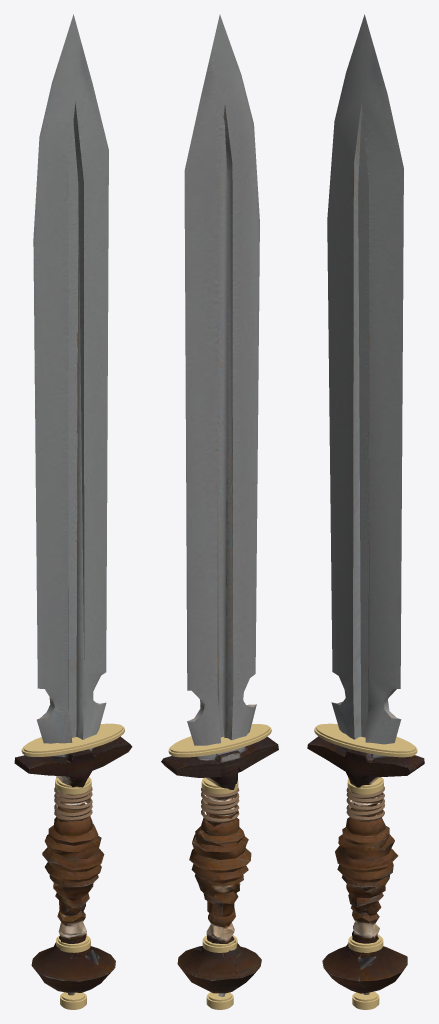
Rendered from weap_roman_gladius_pompeii_1.glb.
The picture shows the model from 3 angles, left to right: view 1: azimuth 30°, elevation 25°; view 2: azimuth 210°, elevation 25°; view 3: azimuth 330°, elevation 25°; orthographic projection.
Visible parts, largest first — view 1: MeshyGear_weap_roman_gladius_pompeii, Q_GE3_GuardPlate, Q_LE0_RepairThong, Q_GE3_PeenBlock, Q_GE4_GripFerruleUpper, Q_GE4_GripFerruleLower; view 2: MeshyGear_weap_roman_gladius_pompeii, Q_GE3_GuardPlate, Q_LE0_RepairThong, Q_GE3_PeenBlock, Q_GE4_GripFerruleLower, Q_GE4_GripFerruleUpper; view 3: MeshyGear_weap_roman_gladius_pompeii, Q_GE3_GuardPlate, Q_LE0_RepairThong, Q_GE3_PeenBlock, Q_GE4_GripFerruleLower, Q_GE4_GripFerruleUpper.
Boxes of the visible parts, x1,y1,x2,y2 form: MeshyGear_weap_roman_gladius_pompeii: [14, 14, 132, 995]; Q_GE3_GuardPlate: [21, 723, 124, 756]; Q_LE0_RepairThong: [54, 787, 92, 821]; Q_GE3_PeenBlock: [60, 992, 86, 1009]; Q_GE4_GripFerruleUpper: [55, 777, 91, 794]; Q_GE4_GripFerruleLower: [56, 935, 90, 952]; MeshyGear_weap_roman_gladius_pompeii: [161, 14, 278, 996]; Q_GE3_GuardPlate: [168, 724, 271, 757]; Q_LE0_RepairThong: [201, 787, 239, 822]; Q_GE3_PeenBlock: [206, 992, 233, 1009]; Q_GE4_GripFerruleLower: [202, 935, 237, 952]; Q_GE4_GripFerruleUpper: [201, 777, 238, 794]; MeshyGear_weap_roman_gladius_pompeii: [307, 14, 424, 994]; Q_GE3_GuardPlate: [314, 723, 417, 757]; Q_LE0_RepairThong: [346, 786, 384, 821]; Q_GE3_PeenBlock: [352, 991, 379, 1009]; Q_GE4_GripFerruleLower: [348, 934, 383, 953]; Q_GE4_GripFerruleUpper: [347, 777, 383, 794].
Bounding box in the file's own units: 0.0747 × 0.685 × 0.0541.
3 materials, 1 textured.
